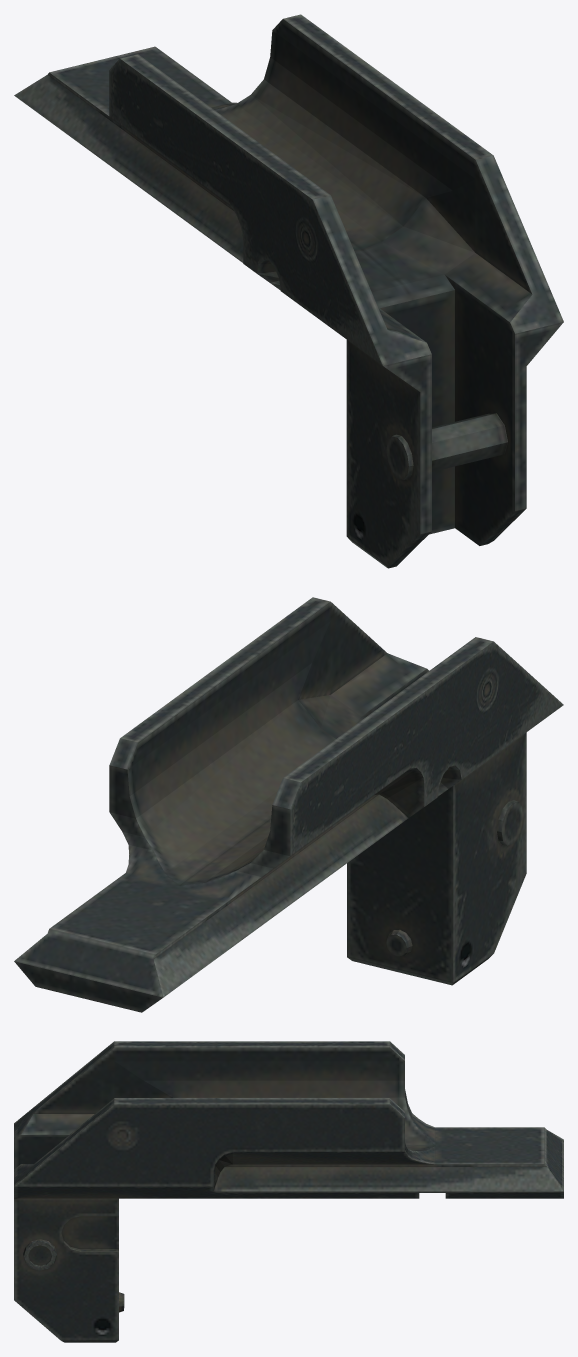
The picture shows the model from 3 angles, top to bottom: view 1: azimuth 30°, elevation 25°; view 2: azimuth 150°, elevation 25°; view 3: azimuth 270°, elevation 25°; orthographic projection. The views are drawn at different scales.
Visible parts, largest first — view 1: TW_576a7c512459771e796e0e17_PZ_Import; view 2: TW_576a7c512459771e796e0e17_PZ_Import; view 3: TW_576a7c512459771e796e0e17_PZ_Import.
Part boxes in pixels (bbox=[...]): TW_576a7c512459771e796e0e17_PZ_Import: bbox=[14, 14, 563, 568]; TW_576a7c512459771e796e0e17_PZ_Import: bbox=[14, 597, 563, 1012]; TW_576a7c512459771e796e0e17_PZ_Import: bbox=[14, 1041, 563, 1342].
Size of the model in its own units: 0.0132 by 0.0488 by 0.0247.
Materials: 1 (1 with a texture image).
